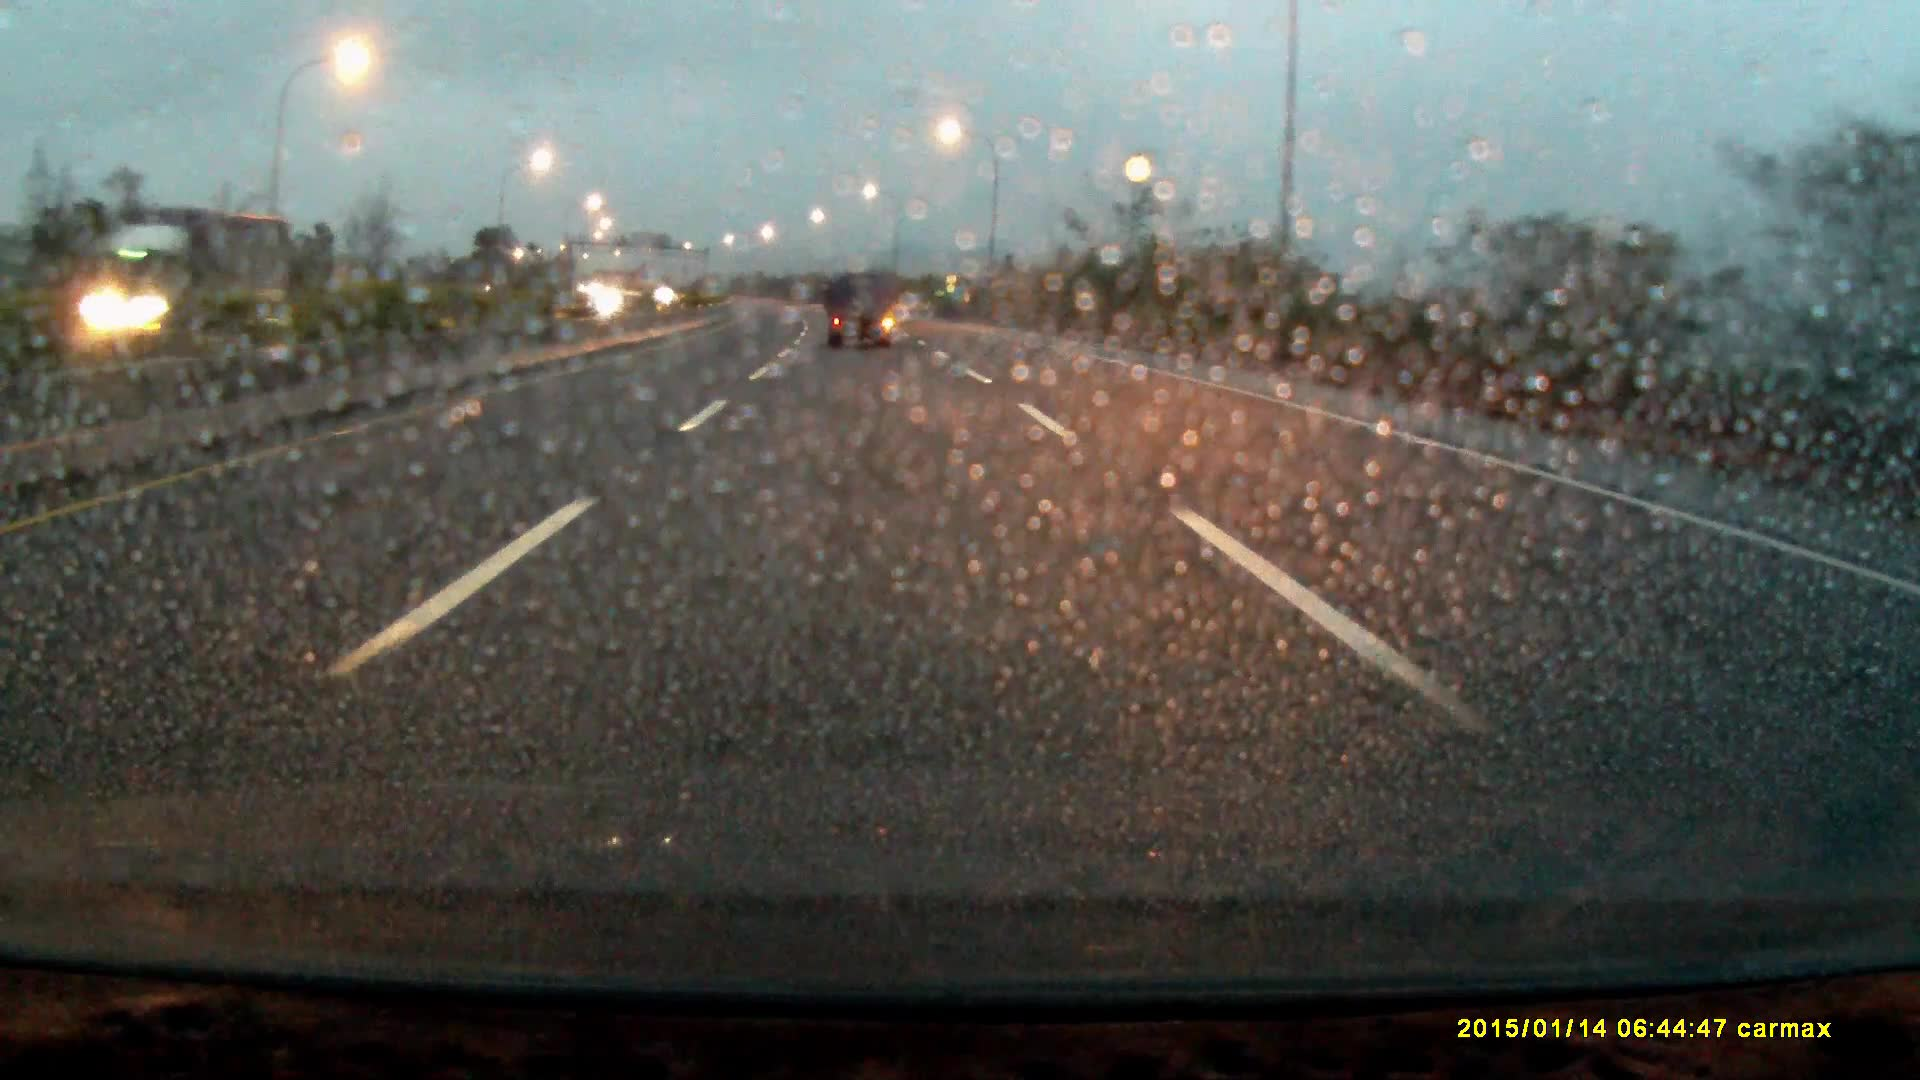vehicle: (76, 214, 309, 382), (825, 277, 899, 349), (596, 291, 637, 314)
